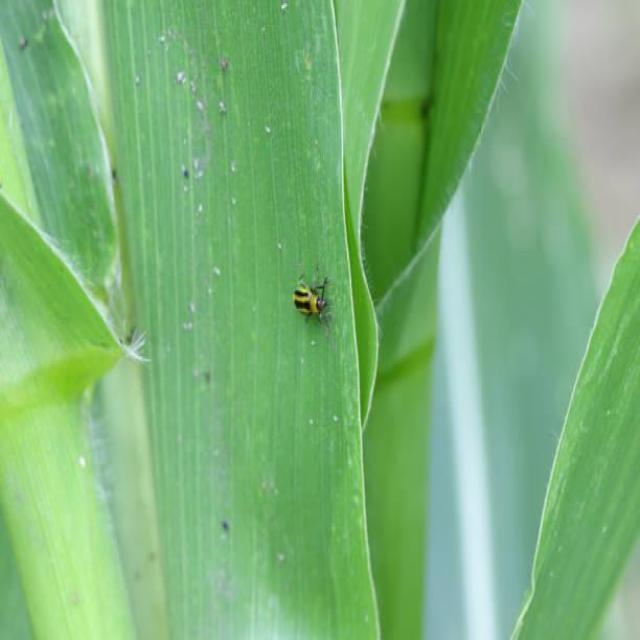trips: (292, 276, 331, 326)
